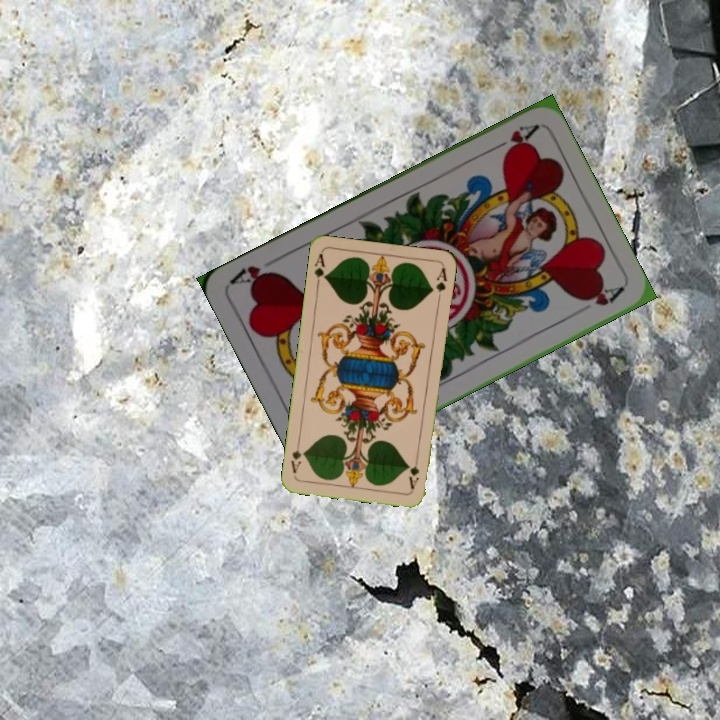GA: (310, 249, 329, 290), (405, 452, 422, 492)
HA: (485, 120, 540, 158)
